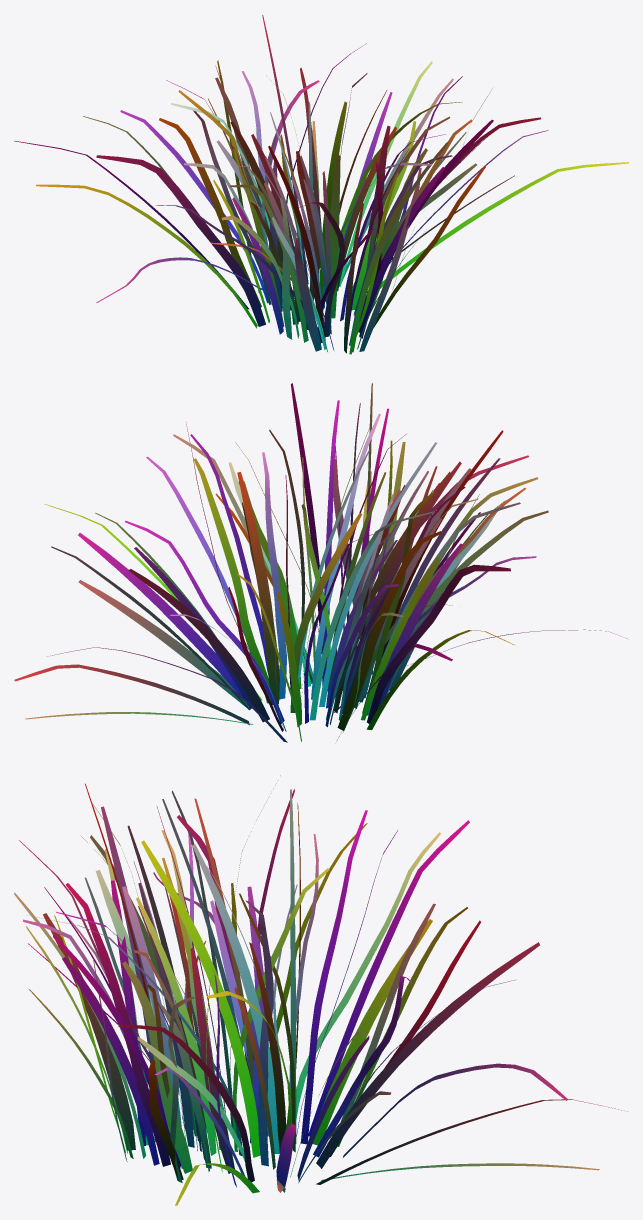
The model's file is Wild_Grass_vlkhcbxia_High_vlkhcbxia_VarG_LOD0.fbx.
3 views of the same model, one above another, from view 1: azimuth 30°, elevation 25°; view 2: azimuth 150°, elevation 25°; view 3: azimuth 270°, elevation 25° (orthographic). The views are drawn at different scales.
Parts seen in each view (by area): view 1: _atsb_VarG_LOD0; view 2: _atsb_VarG_LOD0; view 3: _atsb_VarG_LOD0.
Part boxes in pixels (bbox=[...]): _atsb_VarG_LOD0: bbox=[14, 15, 628, 354]; _atsb_VarG_LOD0: bbox=[14, 383, 628, 742]; _atsb_VarG_LOD0: bbox=[14, 775, 627, 1205].
Bounding box in the file's own units: 25.38 × 11.2 × 19.66.
